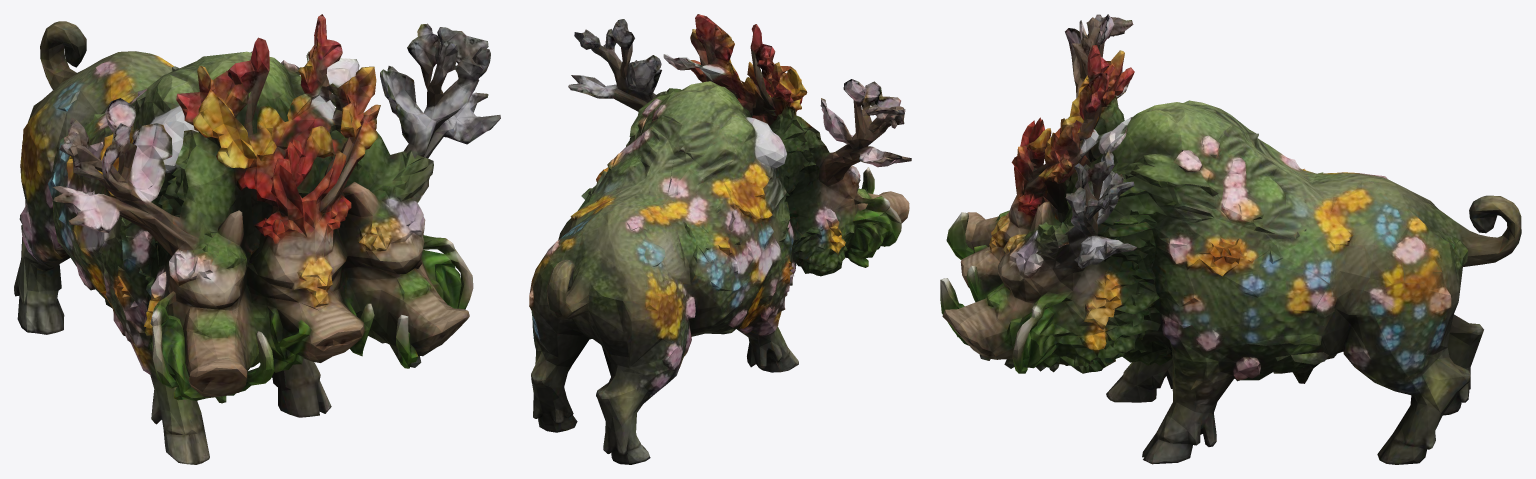
The model's file is mossmaw__erymanthianVerdant.glb.
3 renders of one model, left to right at view 1: azimuth 30°, elevation 25°; view 2: azimuth 150°, elevation 25°; view 3: azimuth 270°, elevation 25°, orthographic. The views are drawn at different scales.
Visible parts, largest first — view 1: world; view 2: world; view 3: world.
Boxes of the visible parts, left/top/right/bottom form: world: left=14, top=14, right=500, bottom=464; world: left=529, top=14, right=911, bottom=464; world: left=940, top=14, right=1521, bottom=464.
Size of the model in its own units: 0.772 by 0.7157 by 0.9993.
Materials: 1 (1 with a texture image).
